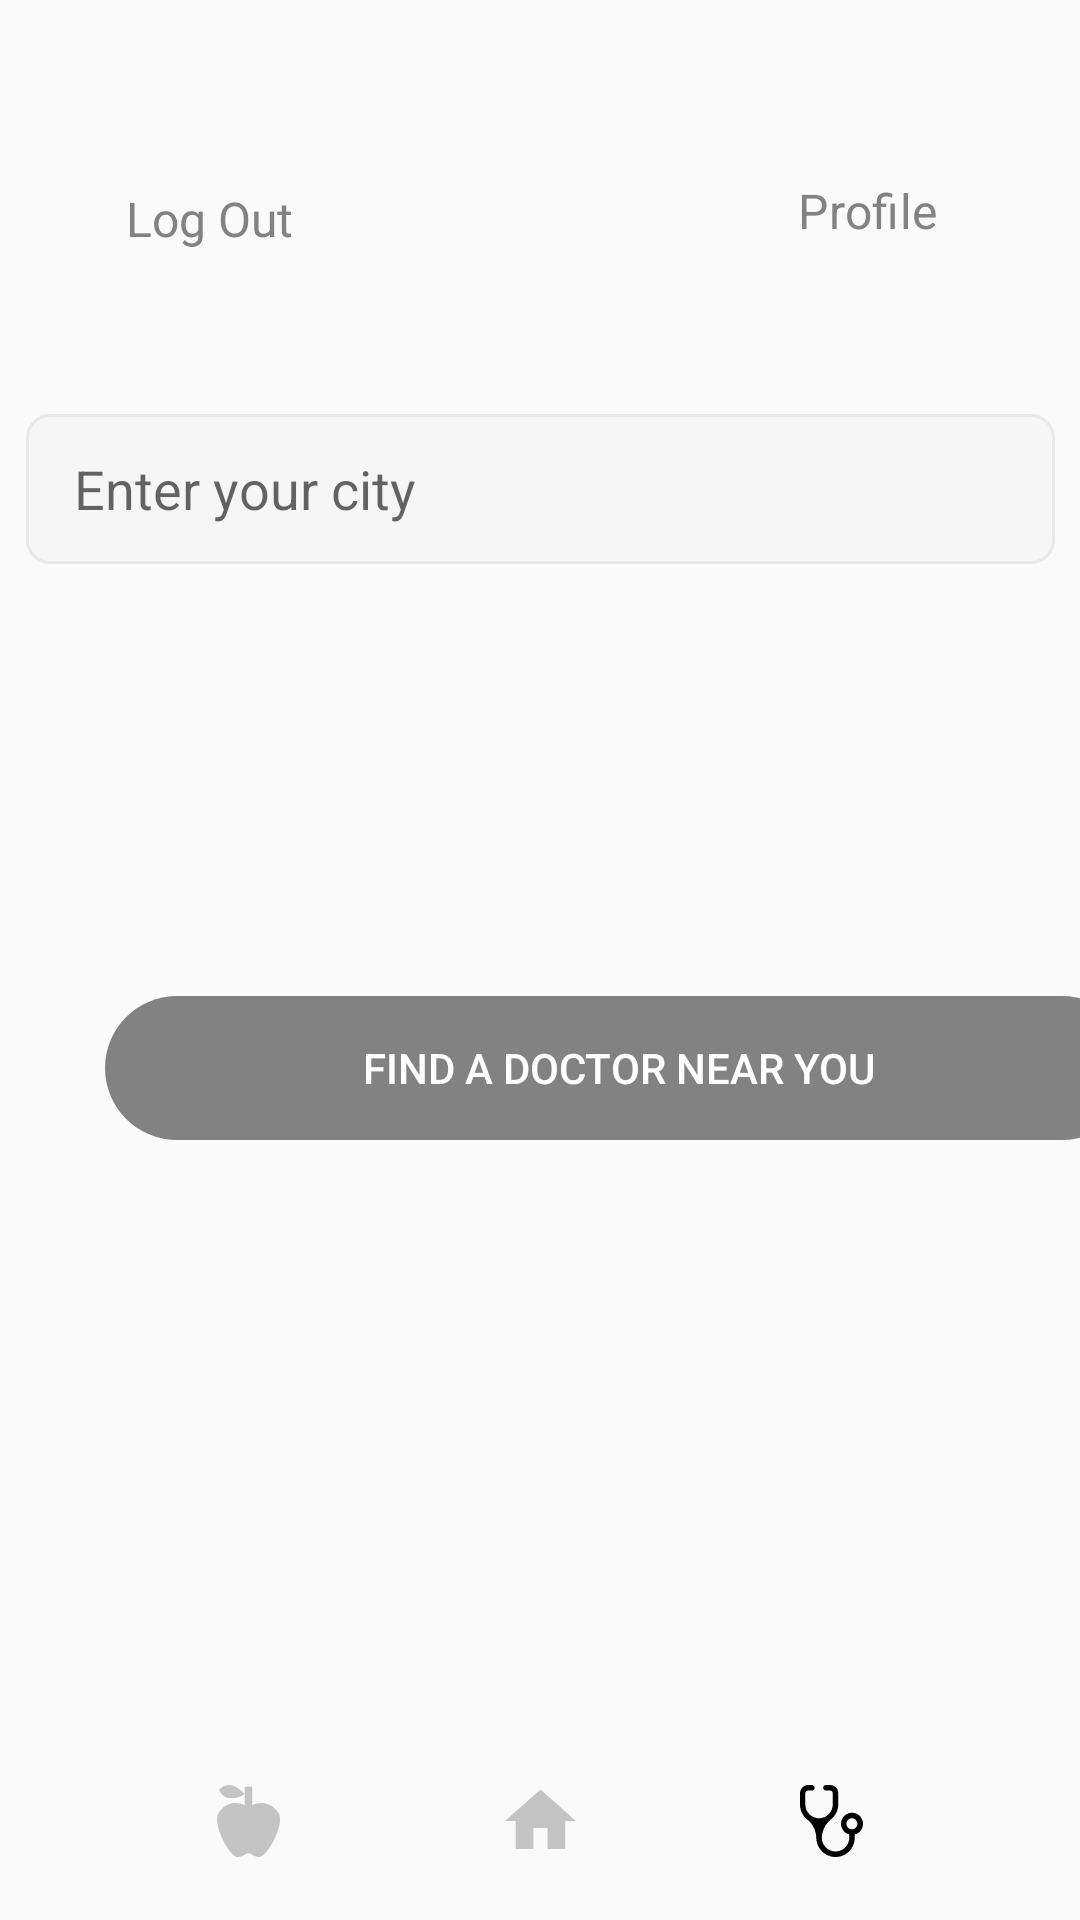

Named icons in this screenshot (1080×1920) and their bounding boxes, (x1, y1, x2, y2):
Find a Doctor: (800, 1785, 863, 1857)
Food Tracker: (217, 1785, 280, 1857)
Home: (506, 1790, 575, 1849)
